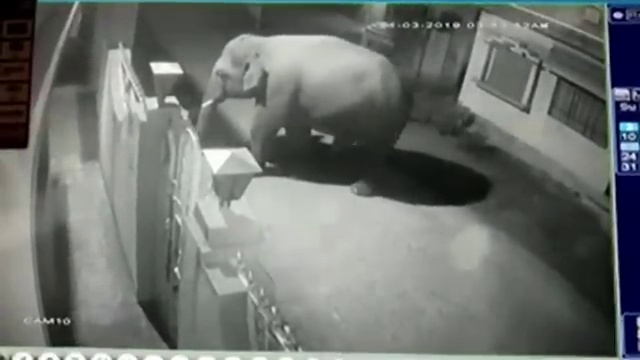Elephant: (196, 34, 411, 197)
